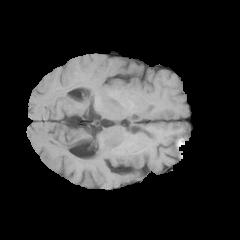glioma: (78, 133, 157, 176)
